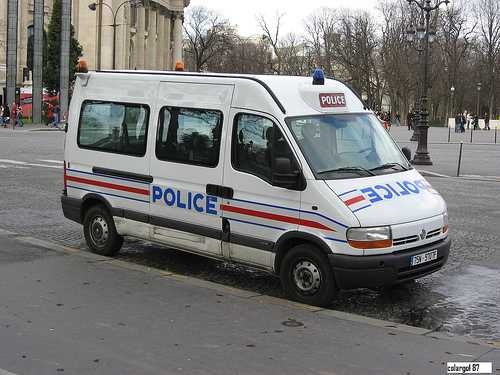Police Van: (43, 41, 461, 307)
